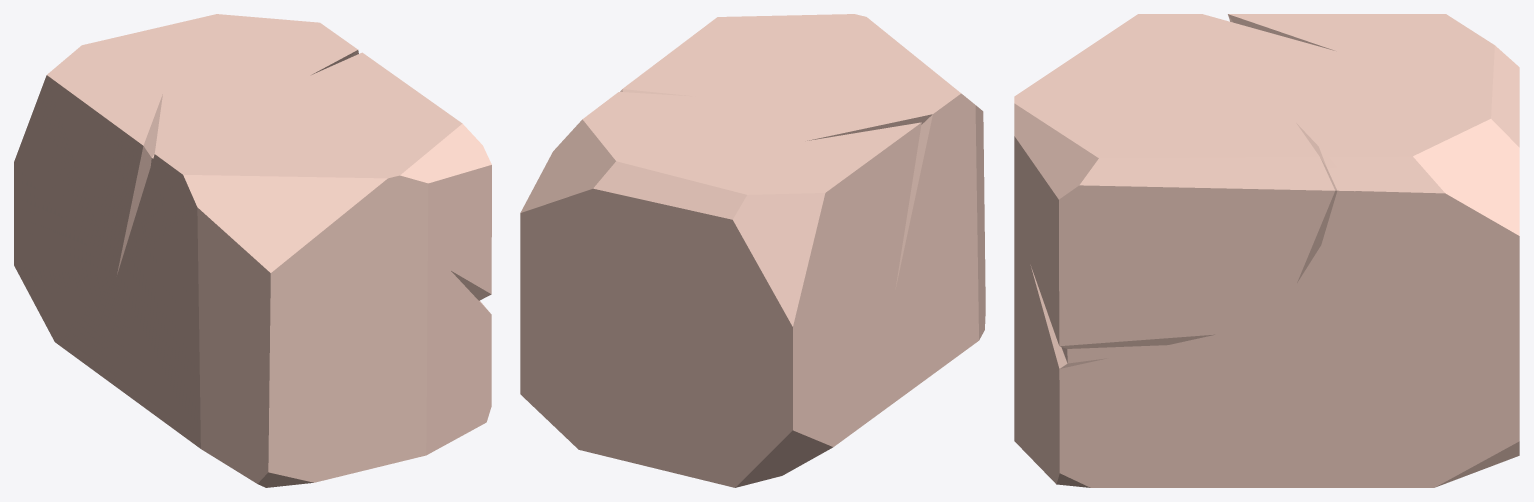
The model's file is Stone 6.fbx.
3 views of the same model, side by side, from view 1: azimuth 30°, elevation 25°; view 2: azimuth 150°, elevation 25°; view 3: azimuth 270°, elevation 25° (orthographic). The views are drawn at different scales.
Parts seen in each view (by area): view 1: Stone 6; view 2: Stone 6; view 3: Stone 6.
Part boxes in pixels (x1,y1,x2,y2): Stone 6: [14, 14, 491, 487]; Stone 6: [520, 14, 985, 487]; Stone 6: [1014, 14, 1519, 487].
Size of the model in its own units: 200 by 200 by 283.
